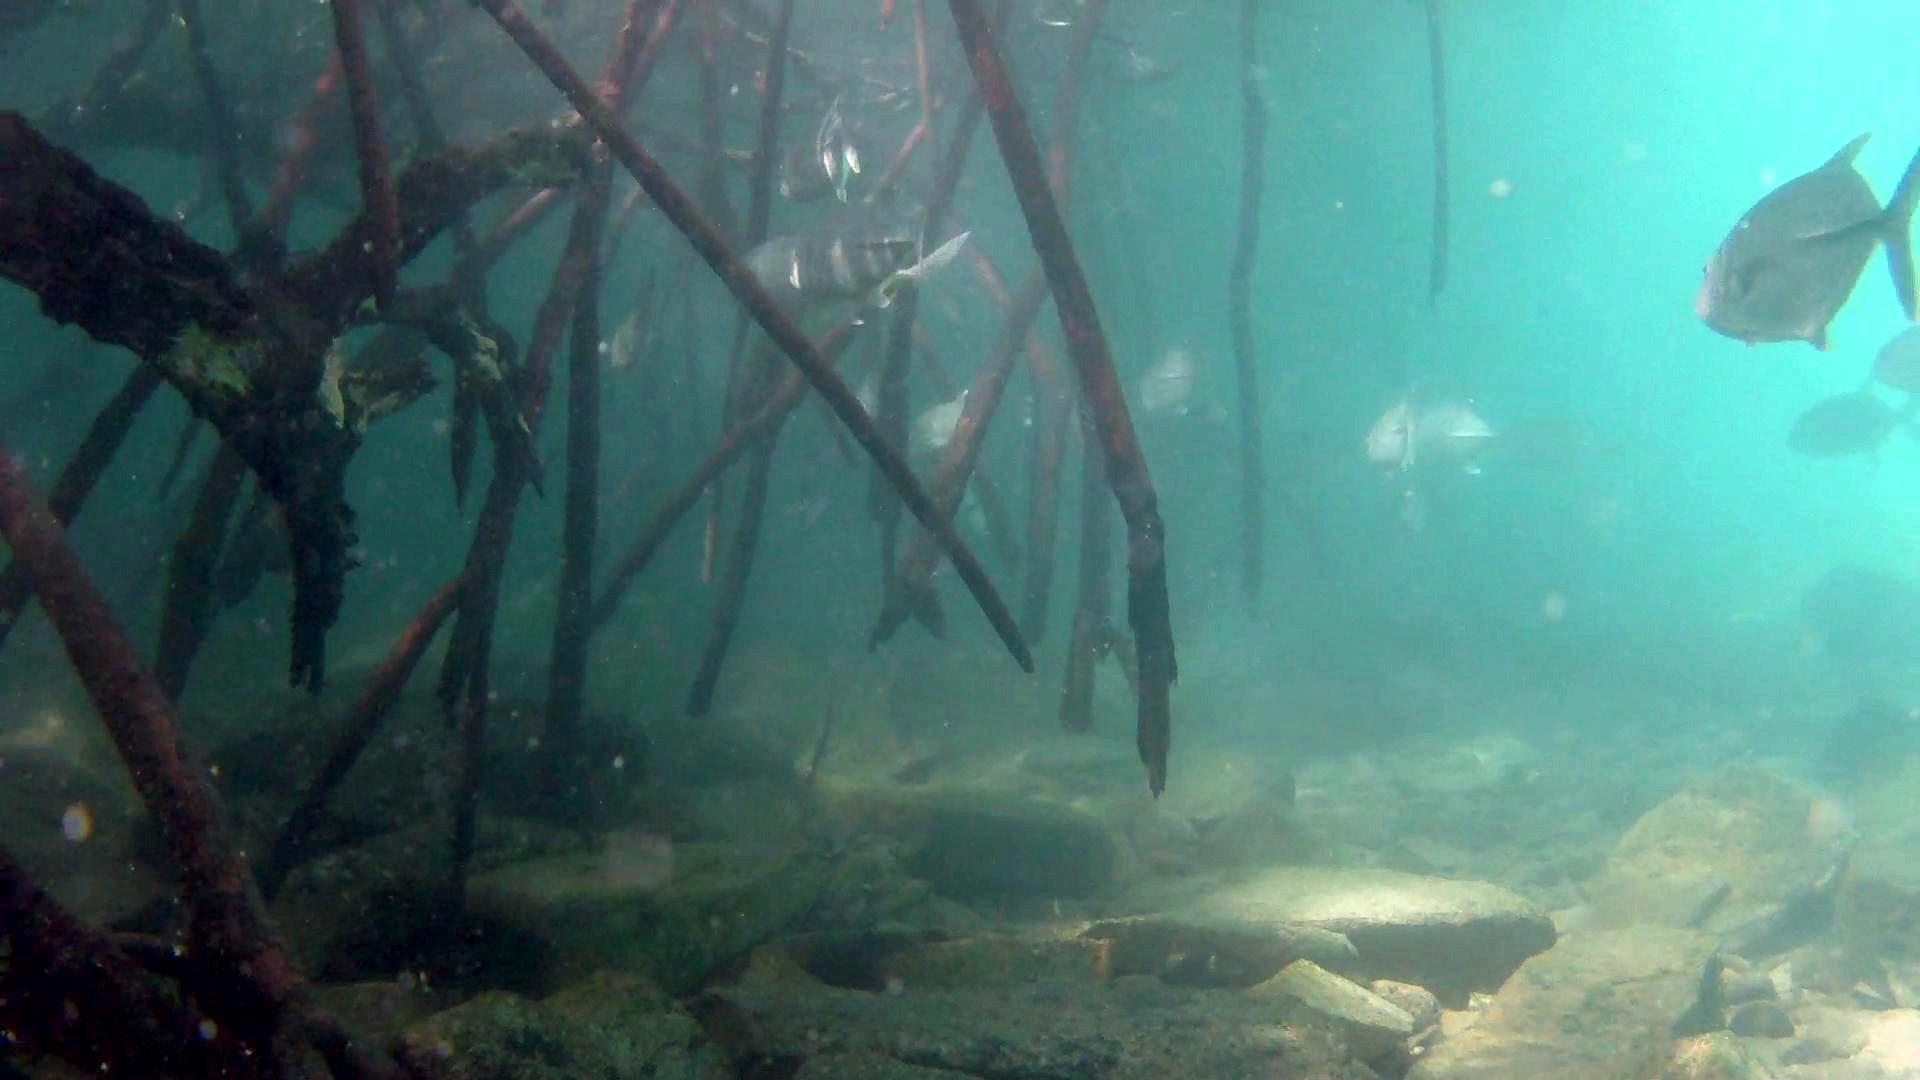caranx: (1688, 122, 1920, 362)
